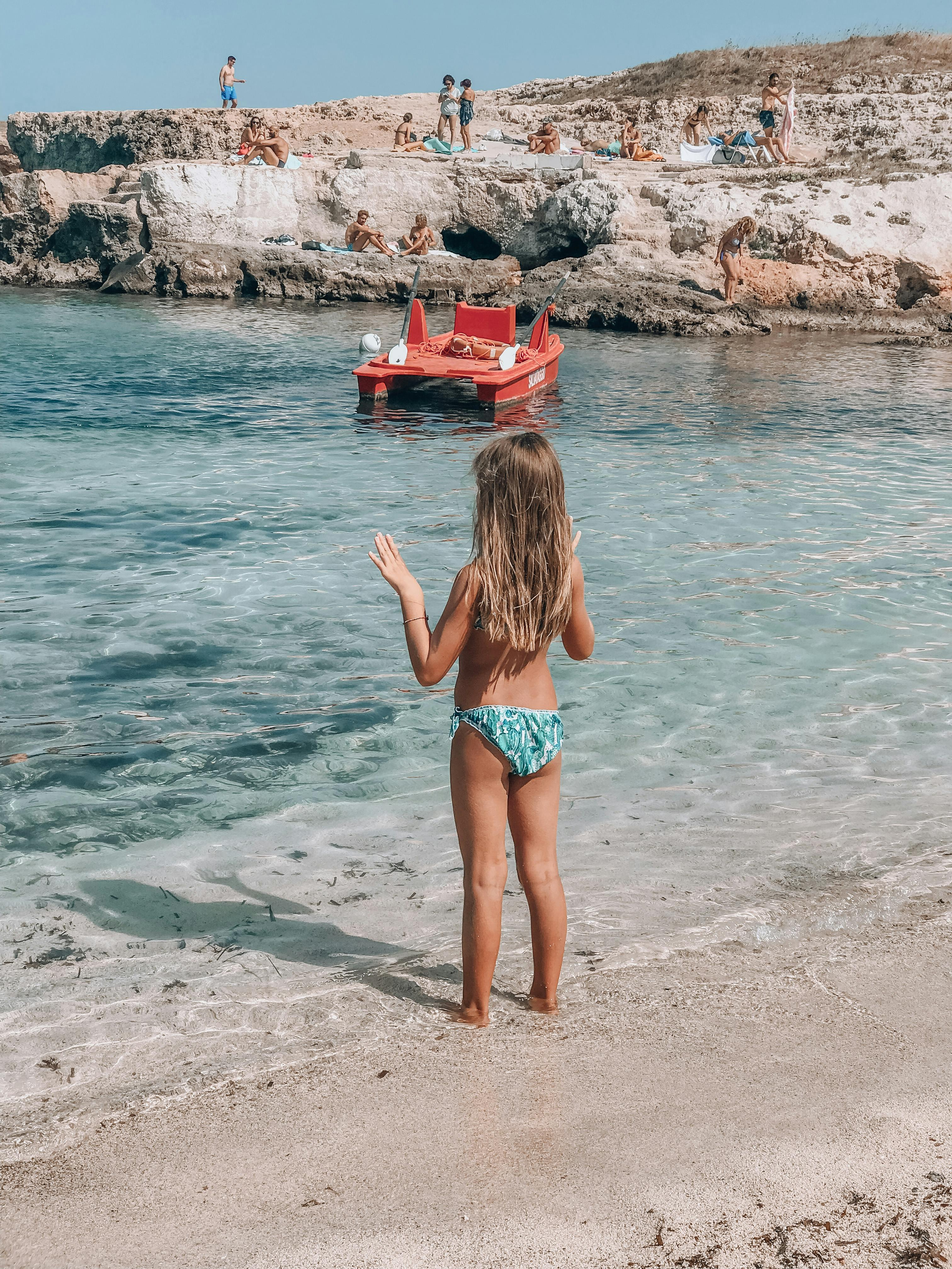Human: (357, 385, 674, 1062)
